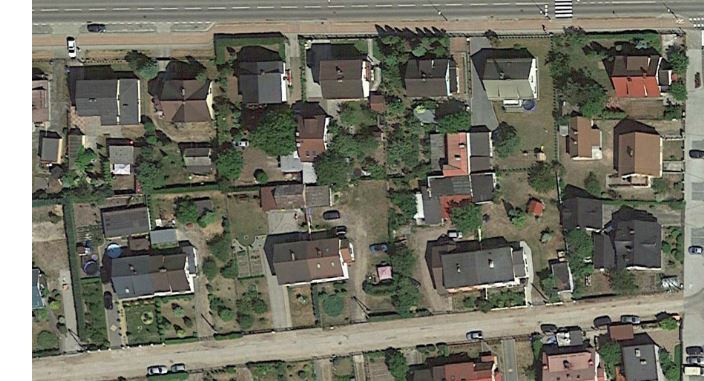family house: (593, 216, 667, 275), (72, 74, 145, 129), (476, 54, 544, 113), (609, 51, 671, 100), (159, 76, 216, 126), (236, 58, 293, 108), (615, 129, 666, 184), (402, 56, 462, 102), (412, 352, 504, 381), (318, 57, 377, 101), (534, 342, 599, 381), (613, 339, 666, 380)
garage: (417, 175, 498, 228), (258, 179, 339, 215), (436, 129, 499, 175), (100, 202, 157, 244), (560, 113, 604, 159), (295, 112, 332, 165), (559, 195, 605, 235), (181, 142, 217, 175), (108, 141, 138, 180)
terrace house: (435, 242, 535, 295), (269, 231, 355, 290), (108, 246, 196, 302)
